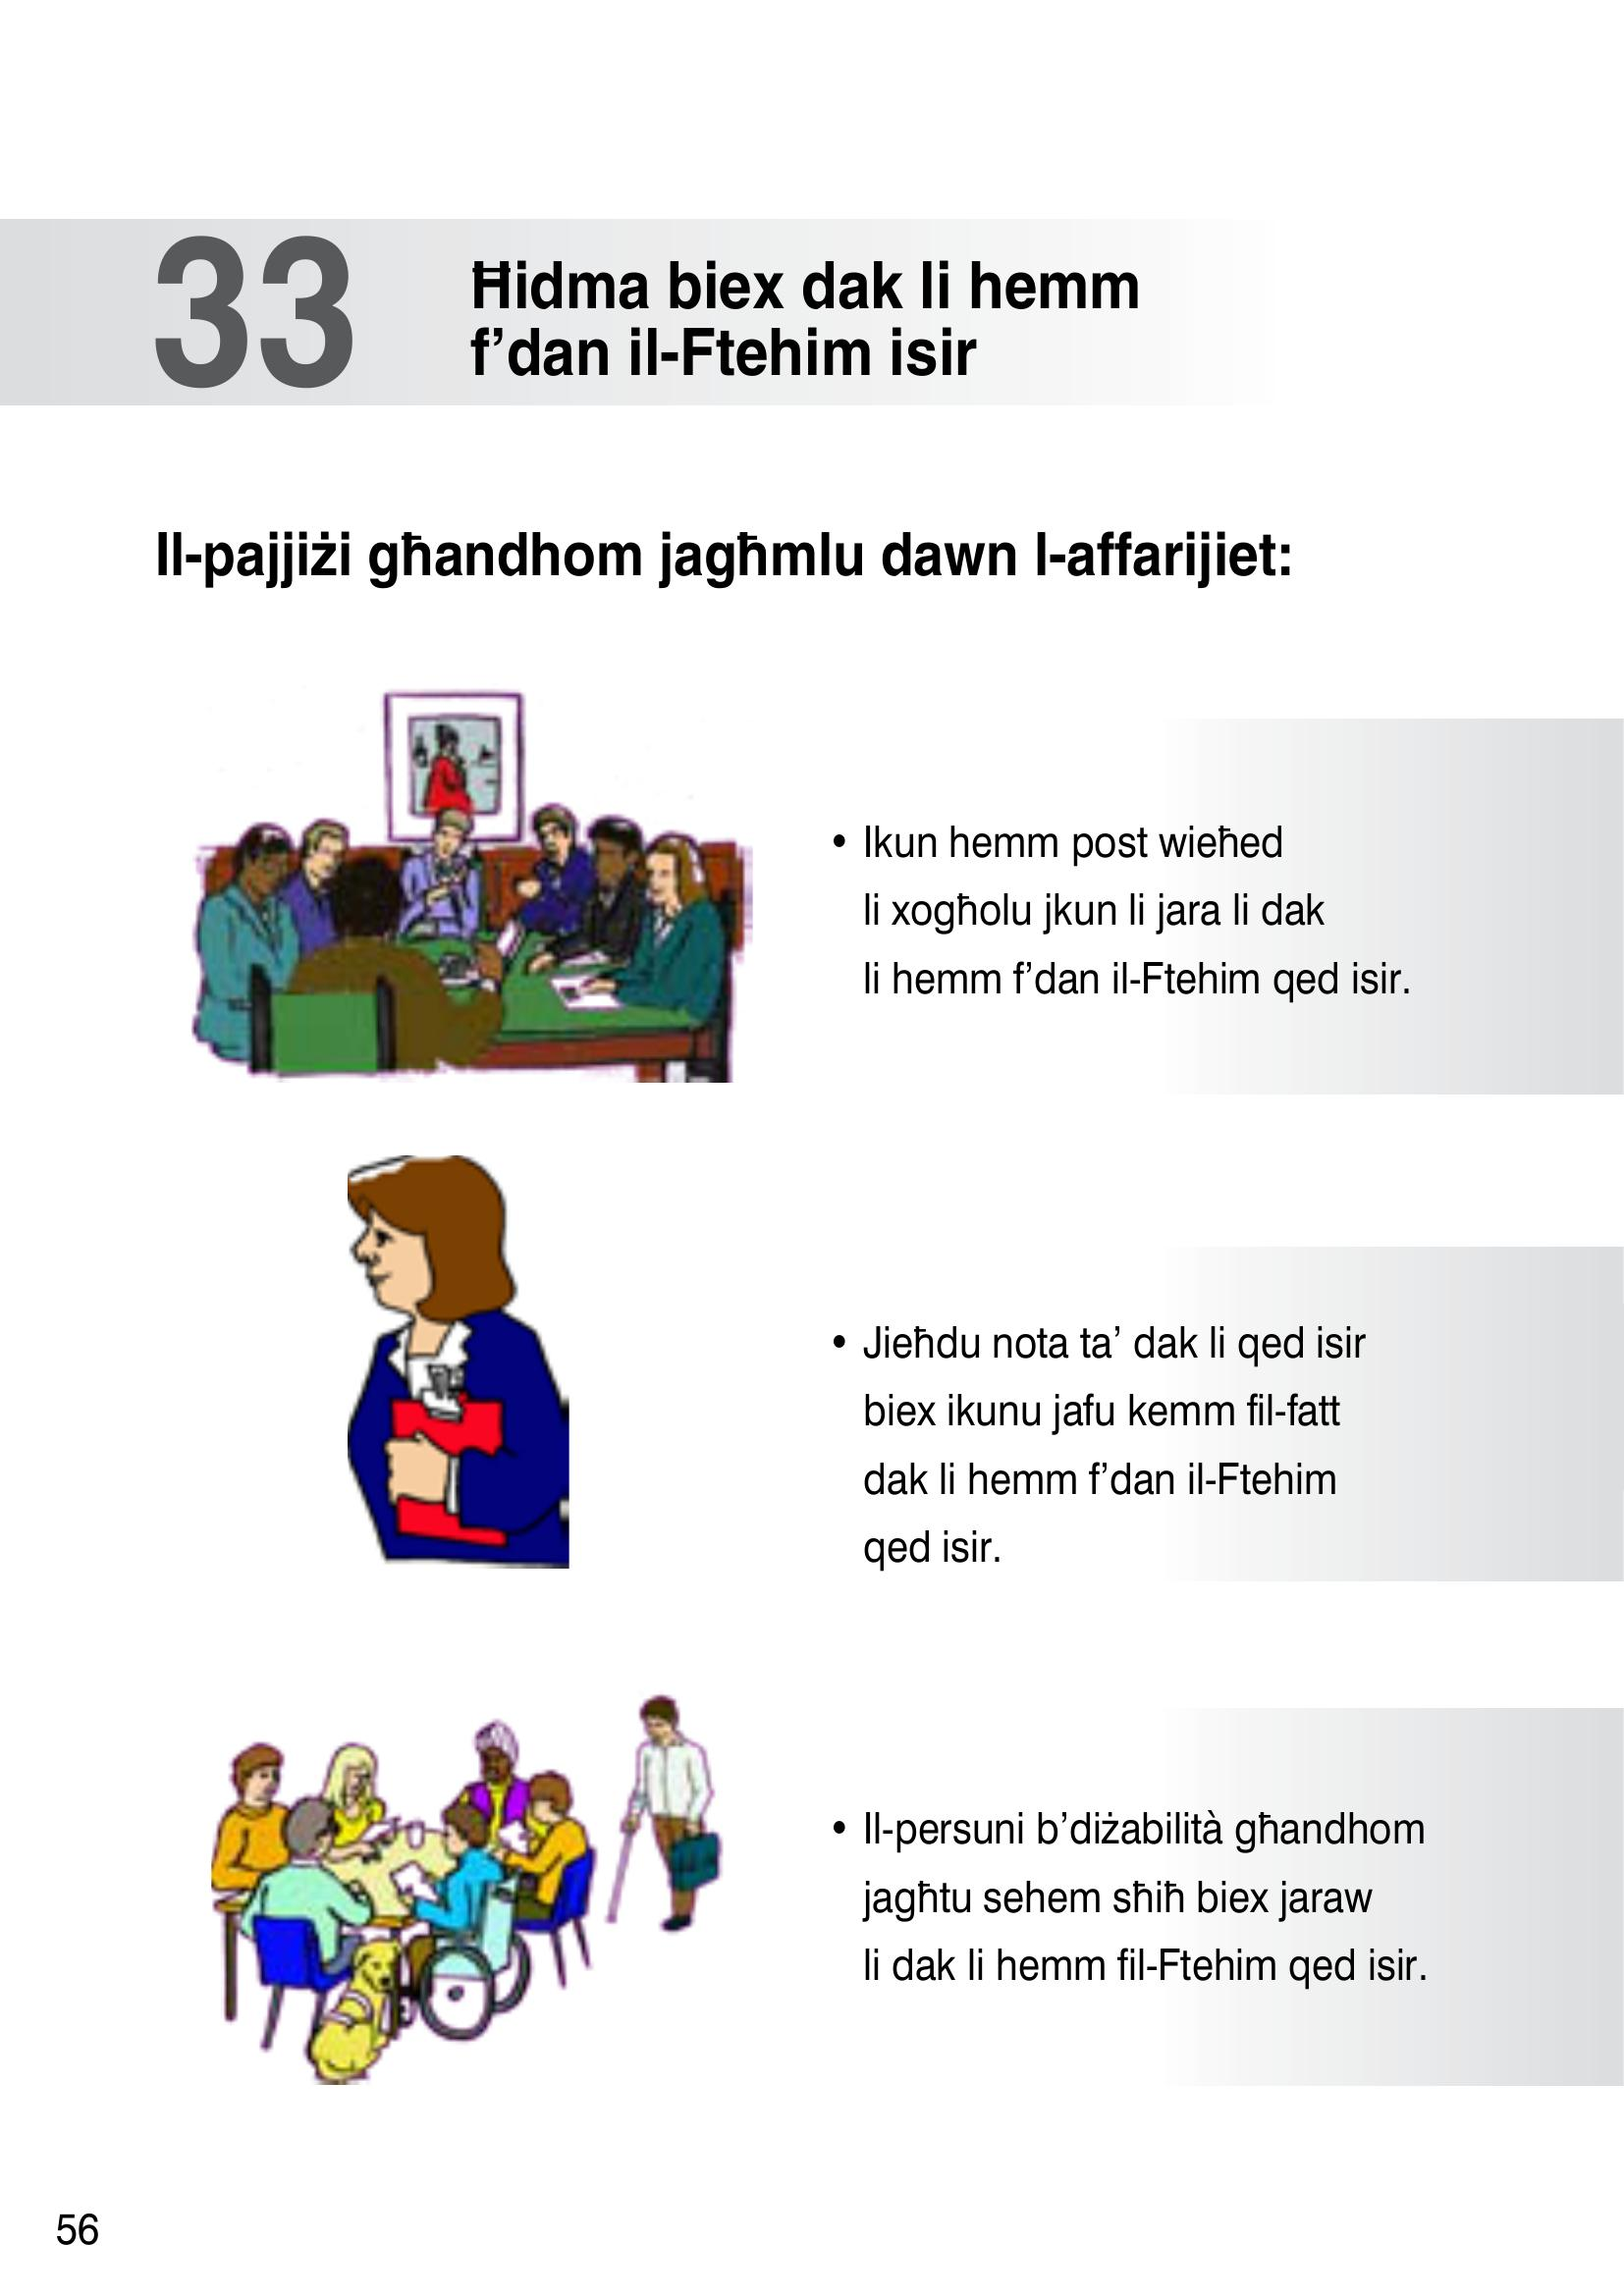text: (801, 798, 1478, 2052), (139, 221, 1316, 608)
